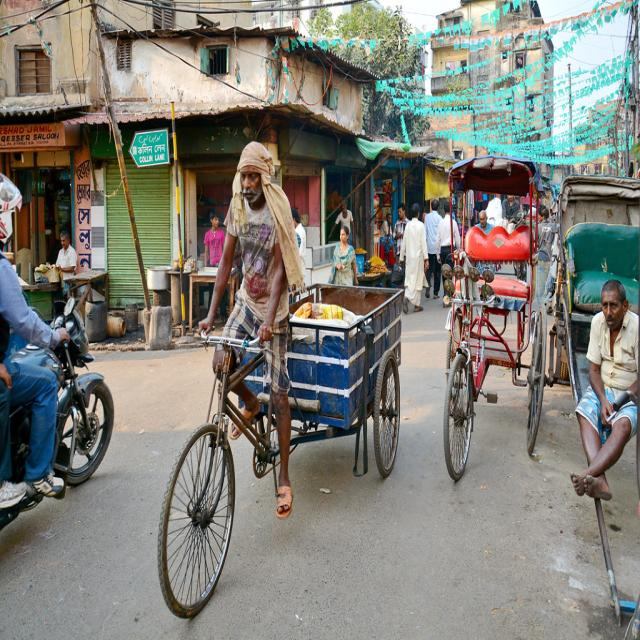bicycle: (159, 142, 401, 617), (444, 156, 546, 480)
